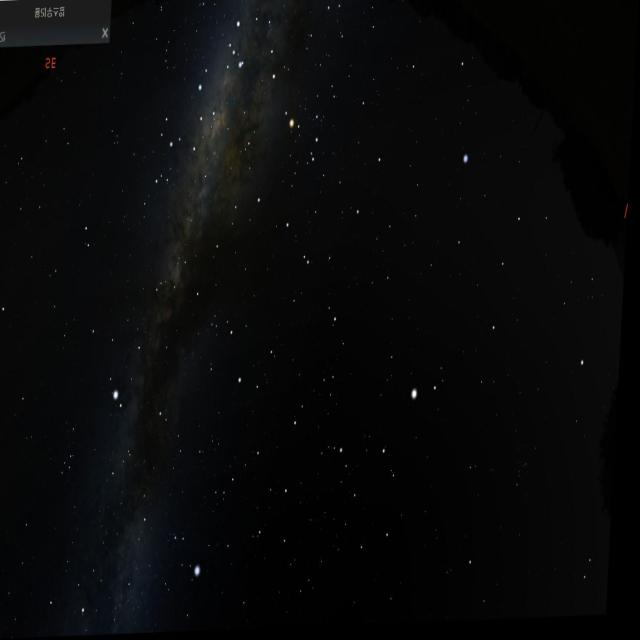aquila: (96, 265, 183, 430)
bootes: (346, 374, 446, 554)
lyra: (174, 523, 212, 582)
sagittarius: (132, 66, 233, 209)
scorpius: (222, 11, 335, 186)
